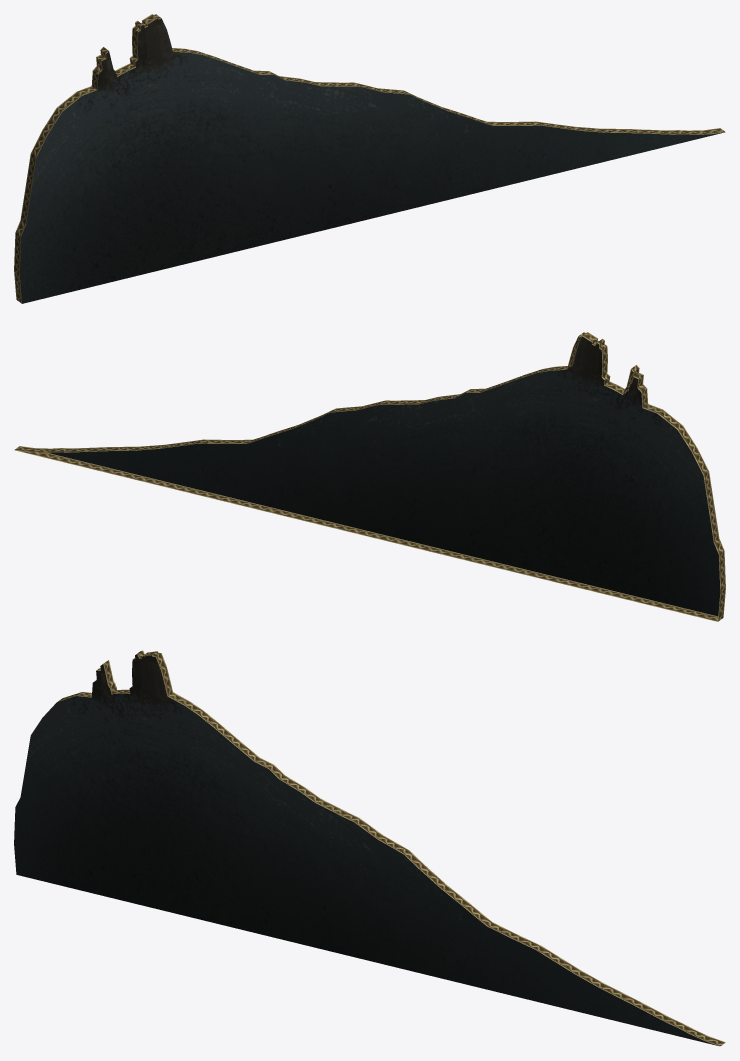
File: tree.fbx
3 views of the same model, one above another, from view 1: azimuth 30°, elevation 25°; view 2: azimuth 150°, elevation 25°; view 3: azimuth 330°, elevation 25° (orthographic).
Visible parts, largest first — view 1: ground; view 2: ground; view 3: ground.
Boxes of the visible parts, x1,y1,x2,y2 form: ground: [14, 14, 725, 303]; ground: [14, 332, 725, 621]; ground: [14, 650, 725, 1046].
Size of the model in its own units: 9.3 by 3.18 by 0.13.
